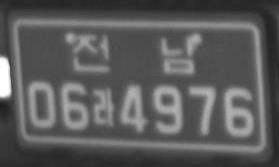0: (27, 79, 58, 130)
4: (118, 83, 149, 133)
6: (223, 85, 255, 139), (60, 80, 88, 131)
7: (188, 84, 218, 136)
9: (152, 83, 184, 136)
라: (91, 87, 116, 128)
전남_D: (69, 31, 196, 76)
